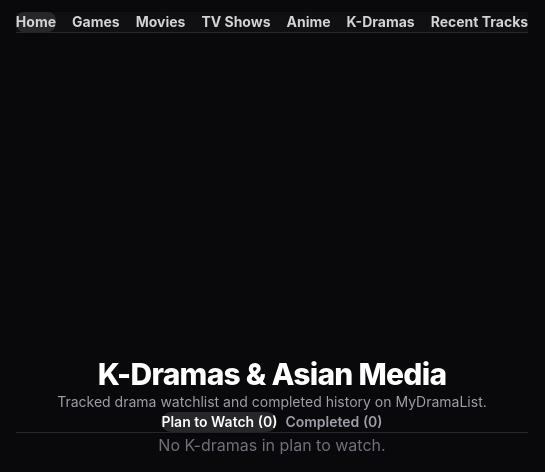
Test case: Dramas Page › handles empty planToWatch and completed arrays safely
This screenshot has width=545, height=472.
Expected: the tab "Plan to Watch (0)" is shown, x1=161 y1=412 x2=277 y2=432
Expected: the text "No K-dramas in plan to watch." is shown, x1=158 y1=435 x2=386 y2=455
Click the tab "Completed (0)". click: [334, 422]
box: x1=285 y1=412 x2=383 y2=432
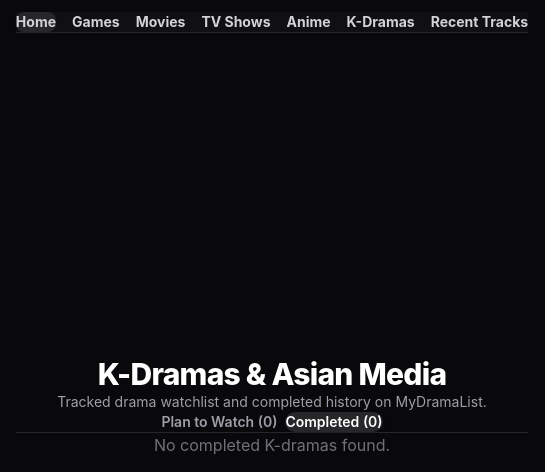
Now the text "No completed K-dramas found." is shown, box x1=154 y1=435 x2=390 y2=455
